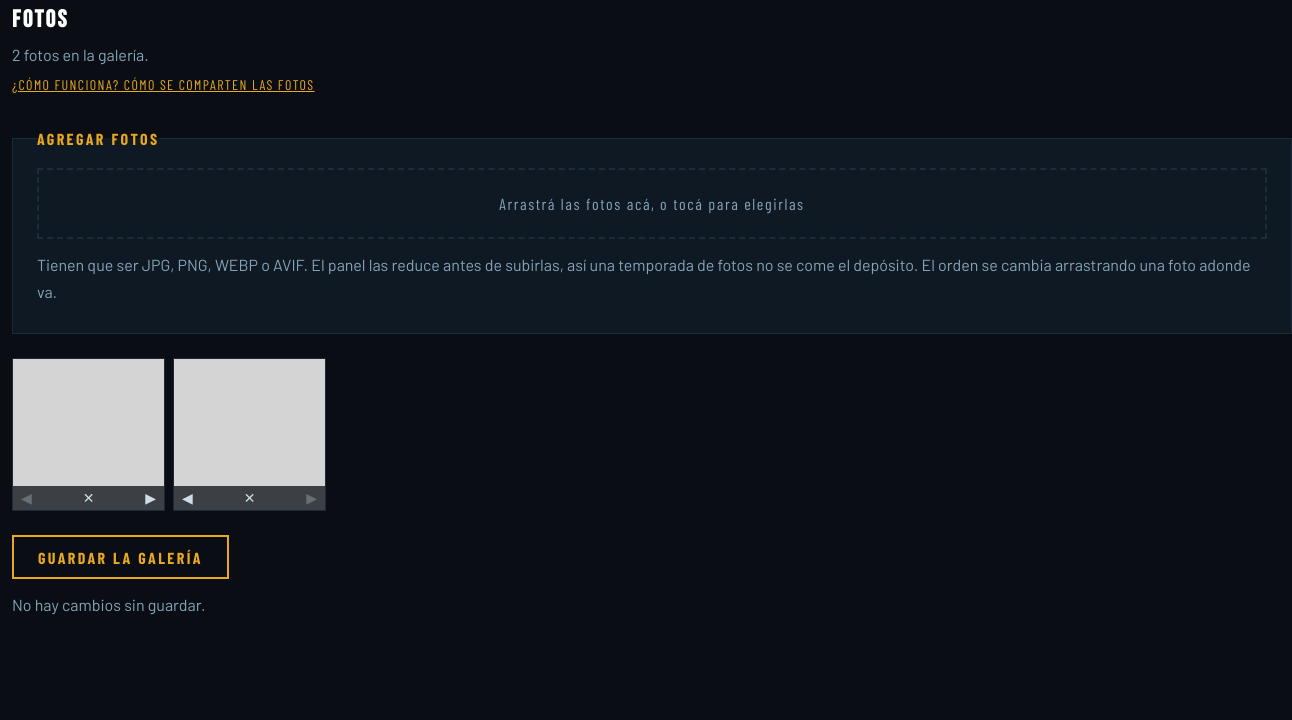
PhotosScreen › reorders the gallery and writes the new places
This screenshot has width=1292, height=720.
What coordinates should you click on to do the following:
click the button named "Subir la foto 2 en el orden"
I would click on:
 (187, 498)
Its box is [174,486,201,510].
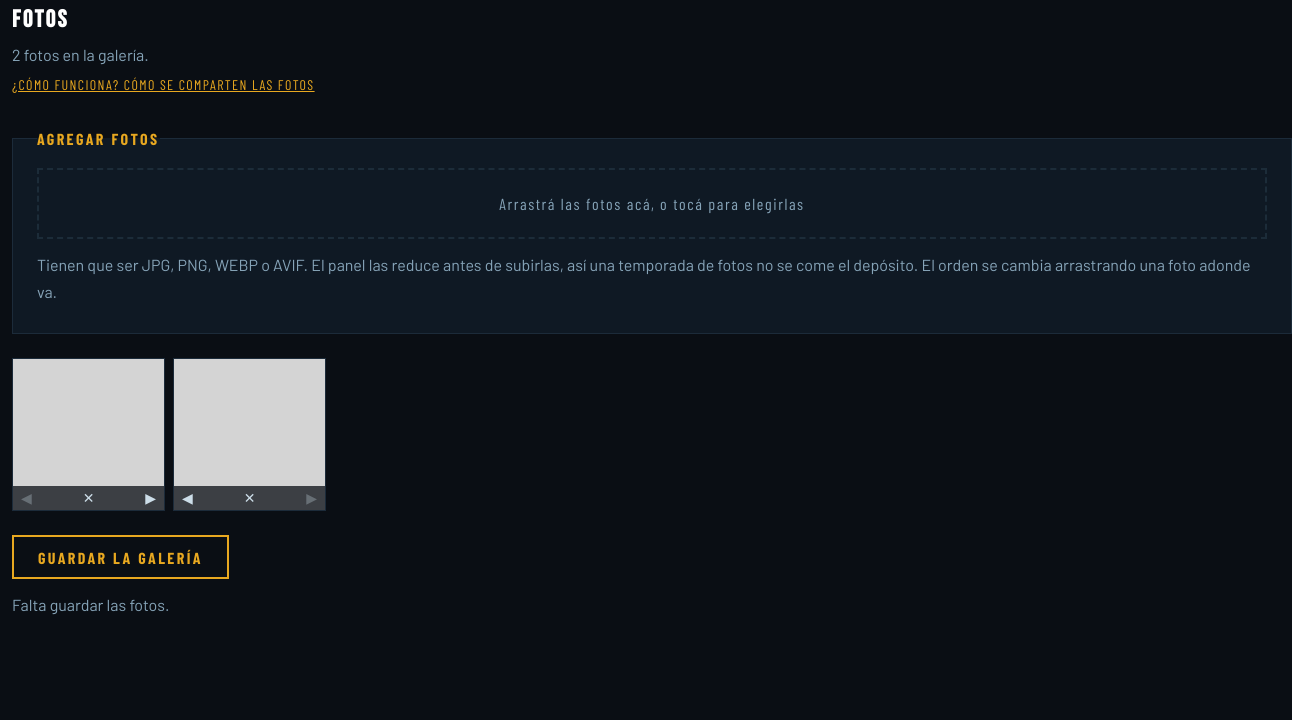
What coordinates should you click on to do the following:
click the button "Guardar la galería"
I would click on:
 (120, 557)
Its box is [12,535,229,579].
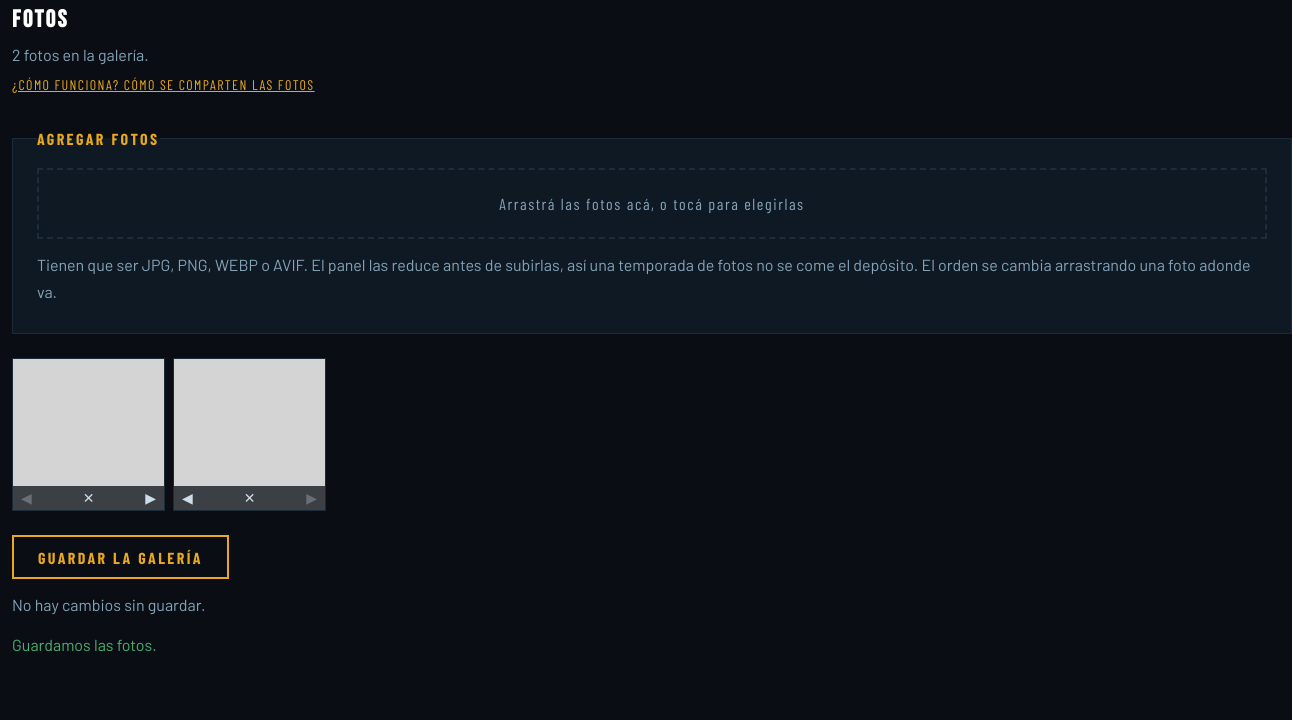
Result: the text "Guardamos las fotos." is shown at [12,630,157,658]
